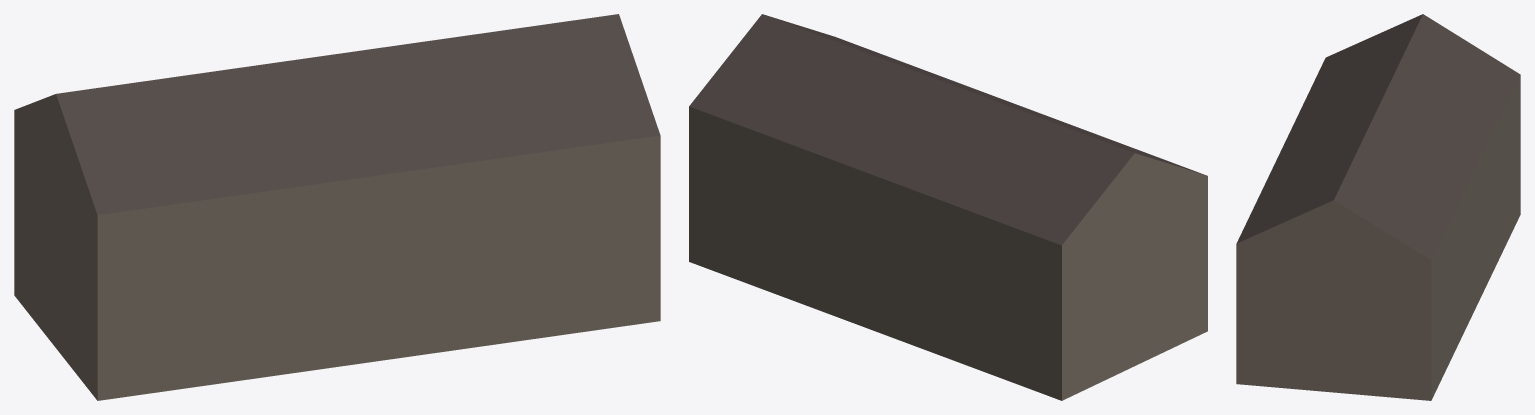
The picture shows the model from 3 angles, left to right: view 1: azimuth 30°, elevation 25°; view 2: azimuth 150°, elevation 25°; view 3: azimuth 270°, elevation 25°; orthographic projection. The views are drawn at different scales.
Visible parts, largest first — view 1: HP-w859078992; view 2: HP-w859078992; view 3: HP-w859078992.
Part boxes in pixels (<box>): HP-w859078992: <box>14,14,660,400</box>; HP-w859078992: <box>689,14,1207,400</box>; HP-w859078992: <box>1236,14,1520,400</box>.
Bounding box in the file's own units: 27.89 × 12.34 × 16.5.
